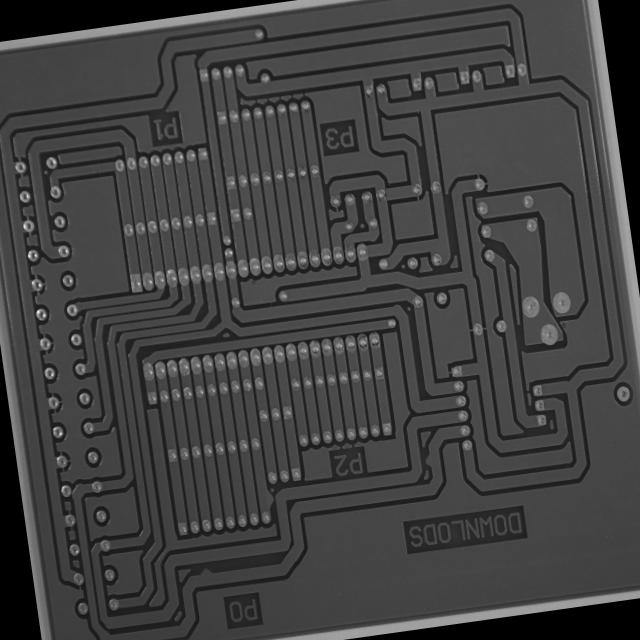spur: (261, 486, 278, 512), (198, 564, 216, 581), (424, 452, 436, 470)
